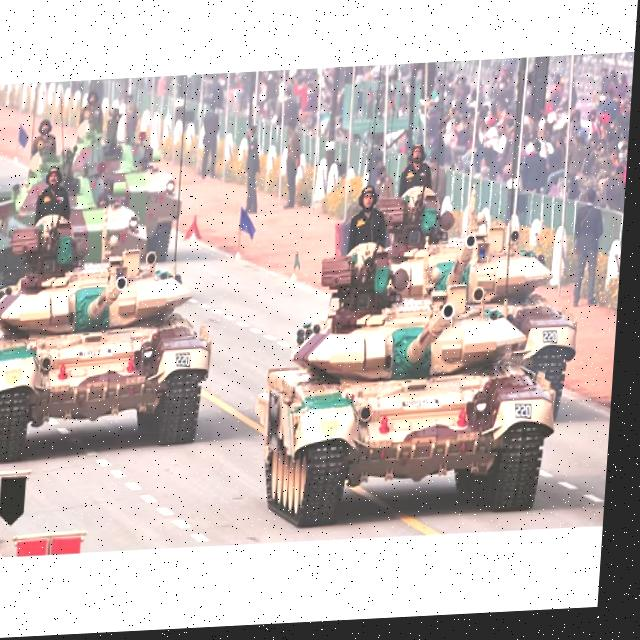unit number: (521, 407, 540, 426), (179, 353, 197, 371), (546, 334, 564, 351)
